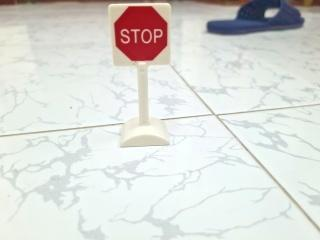stop: (91, 0, 184, 75)
